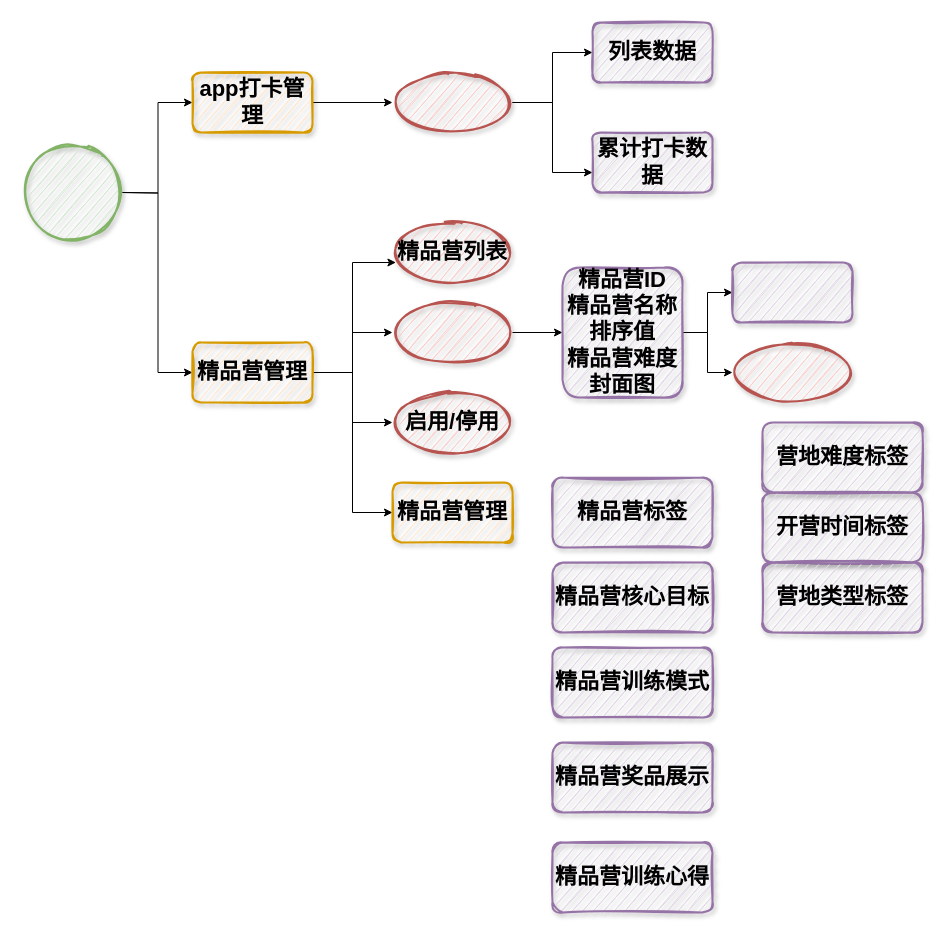
Image size: 946x937. Some labels were removed from this diagram. Each missing label, with the centre of its shape:
发现页 管理: the point at 73,193
图片上传: the point at 793,373
打卡列表: the point at 453,103
新建/编辑 精品营: the point at 453,333
难度枚举: the point at 793,293
